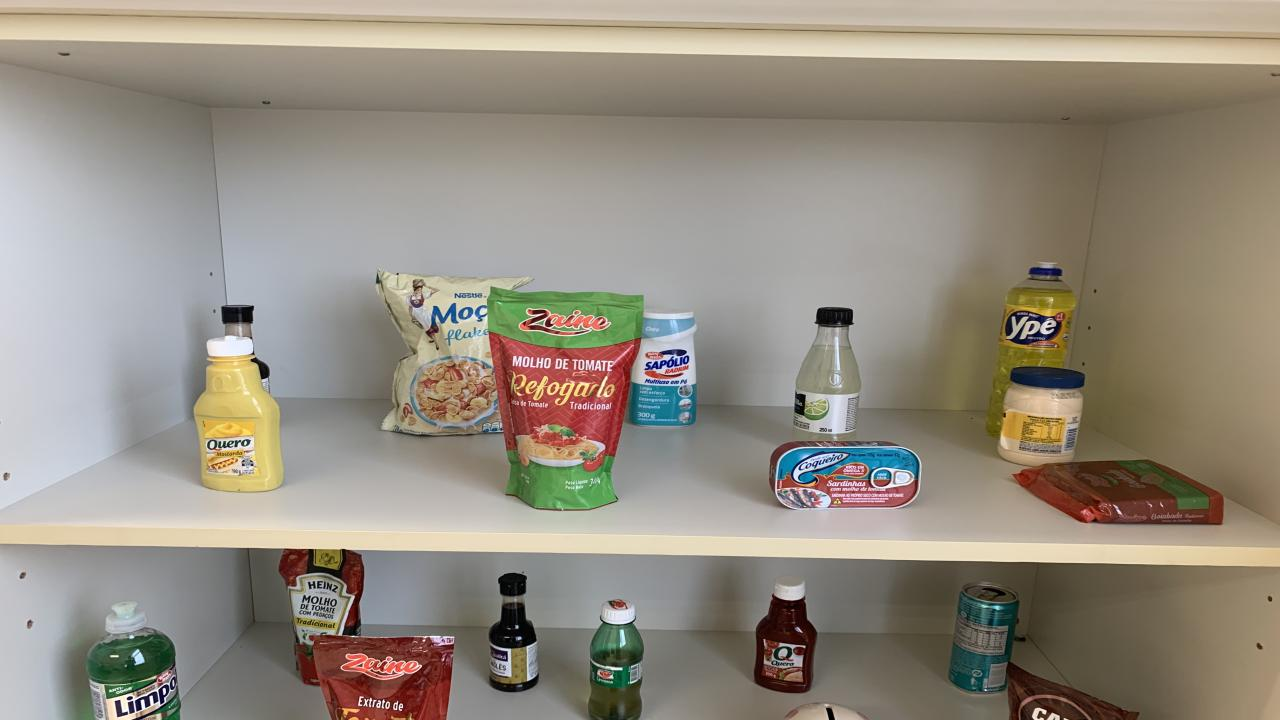Cleaner-Cleanup_Items: (628, 309, 698, 428)
Coffee-Pantry_Items: (1008, 664, 1138, 720)
Detergent-Cleanup_Items: (985, 262, 1078, 435), (88, 602, 180, 720)
English_Sauce-Pantry_Items: (488, 572, 538, 692), (222, 304, 255, 338), (252, 356, 270, 392)
Flakes-Snacks: (375, 270, 530, 435)
Guarana-Drinks: (588, 600, 645, 720)
Guava-Snacks: (1015, 459, 1222, 525)
Ketchup-Pantry_Items: (755, 576, 818, 692)
Mayonnaise-Pantry_Items: (998, 368, 1085, 467)
Mustard-Pantry_Items: (195, 336, 282, 491)
Pig_Safe-Miscellaneous: (782, 703, 868, 720)
Soda-Drinks: (792, 308, 860, 441)
Tea-Drinks: (948, 581, 1020, 694)
Tomato_Sauce-Pantry_Items: (488, 287, 645, 510), (312, 636, 455, 720), (278, 549, 365, 684)
Tuna_Can-Pantry_Items: (770, 441, 920, 510)
